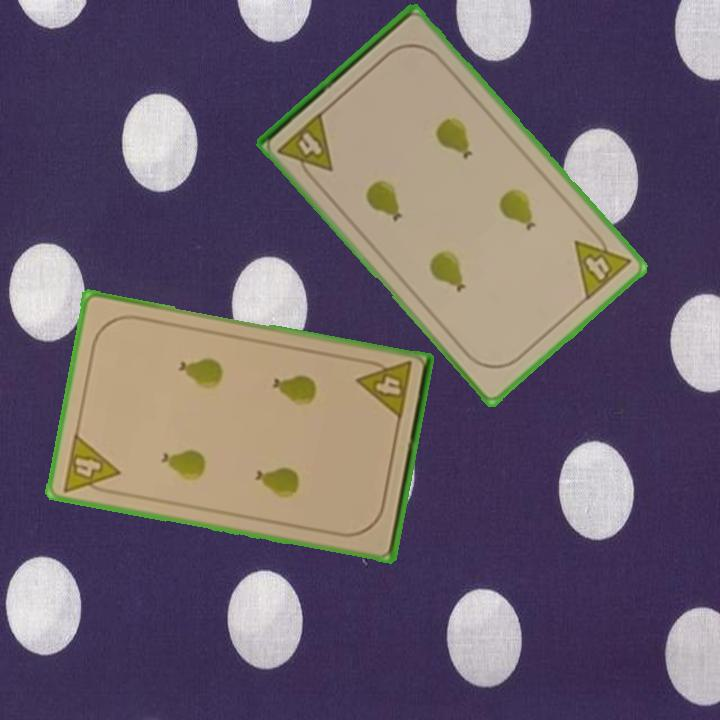4p: (570, 223, 634, 304), (274, 108, 337, 186), (59, 430, 123, 498), (354, 356, 415, 423)
